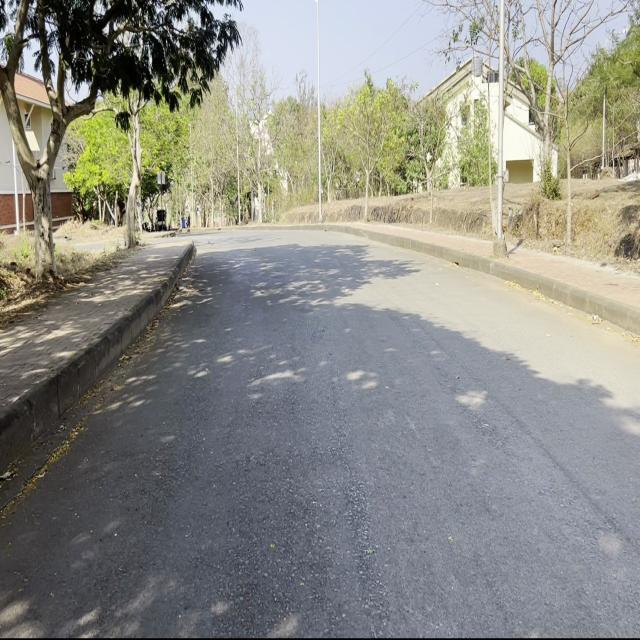Road: (5, 226, 634, 631)
